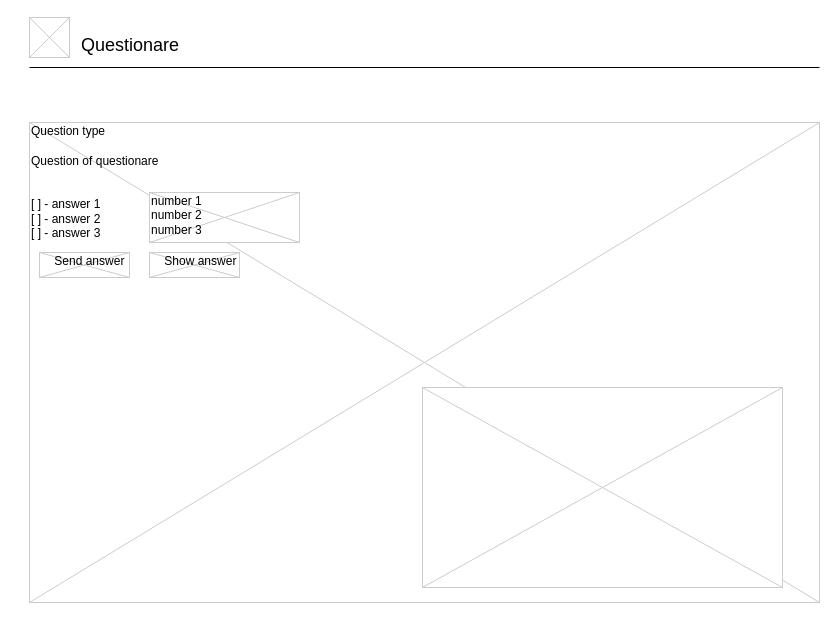
This 838x620 diagram has some shape labels left out. Each missing label, with the centre of its shape:
Question related Picture: the point at 602,487
Questionare Logo: the point at 49,37
